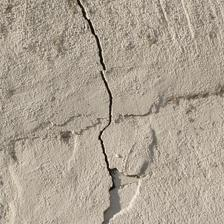Crack: (118, 85, 224, 120), (97, 71, 124, 170), (103, 166, 149, 223), (72, 1, 105, 69)
